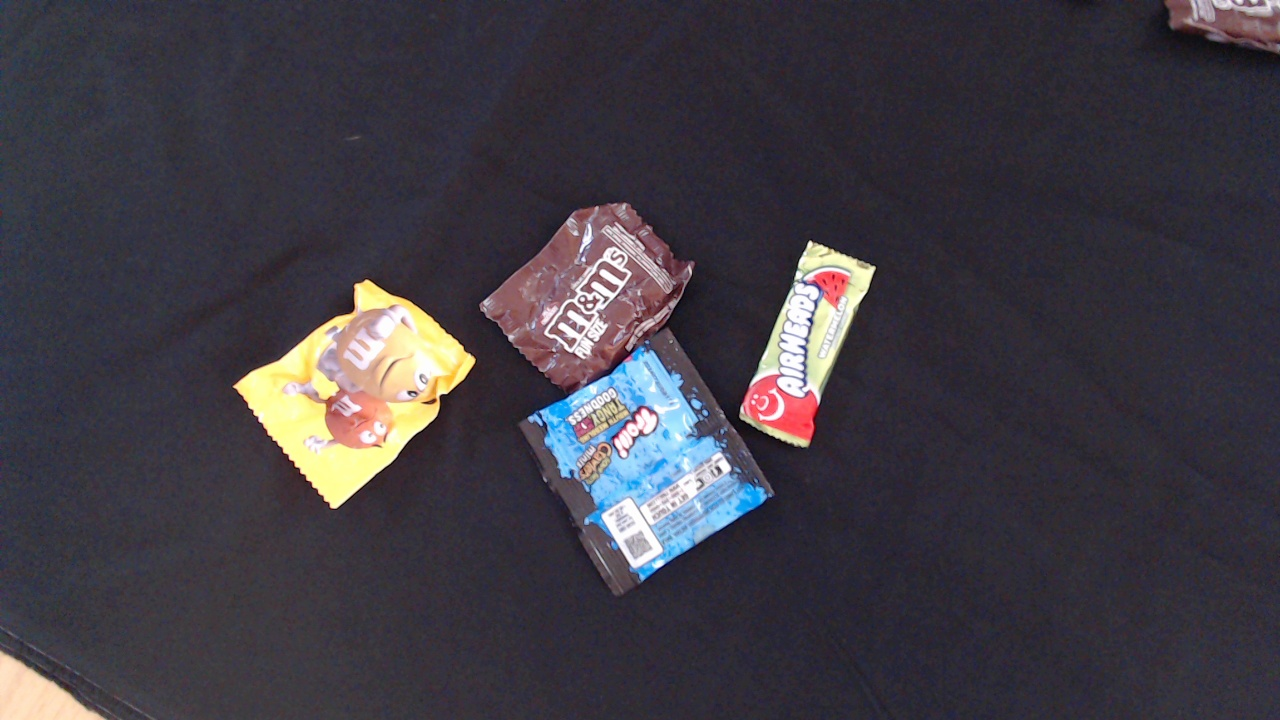MMs_peanut: (454, 176, 708, 375)
MMs_regular: (233, 264, 472, 503)
airheads: (489, 342, 774, 595), (755, 213, 883, 456)
